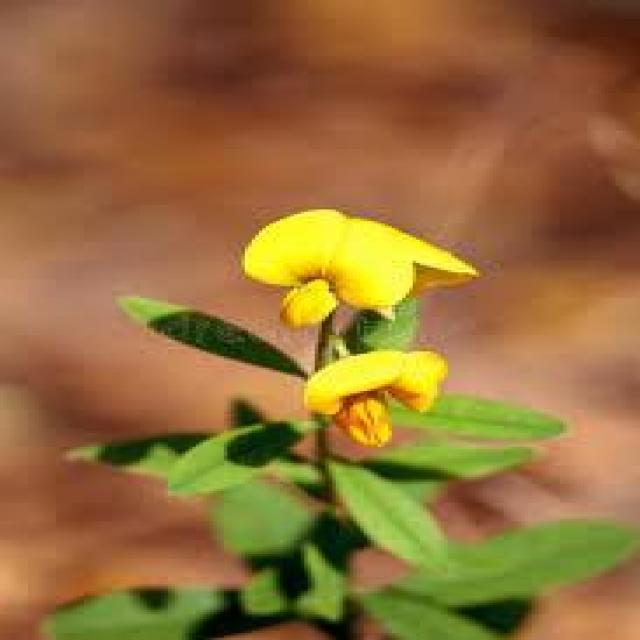organic waste: (236, 199, 456, 327), (286, 345, 448, 449)
